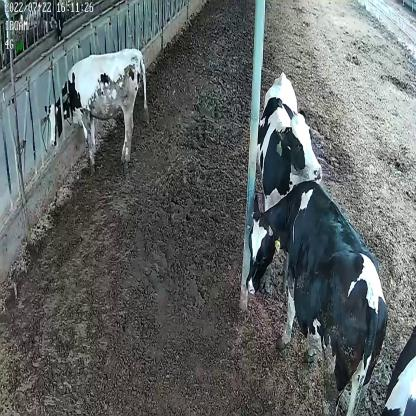cow: (245, 182, 388, 416), (44, 50, 150, 178), (254, 71, 323, 208)
